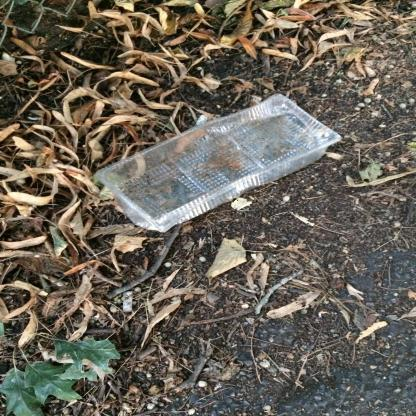plastik: (94, 95, 342, 234)
